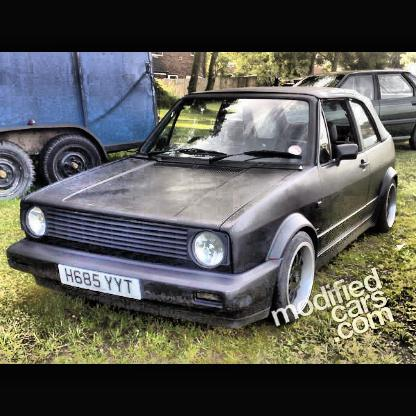Volkswagen Golf Hatchback 1991: (8, 87, 400, 332)
